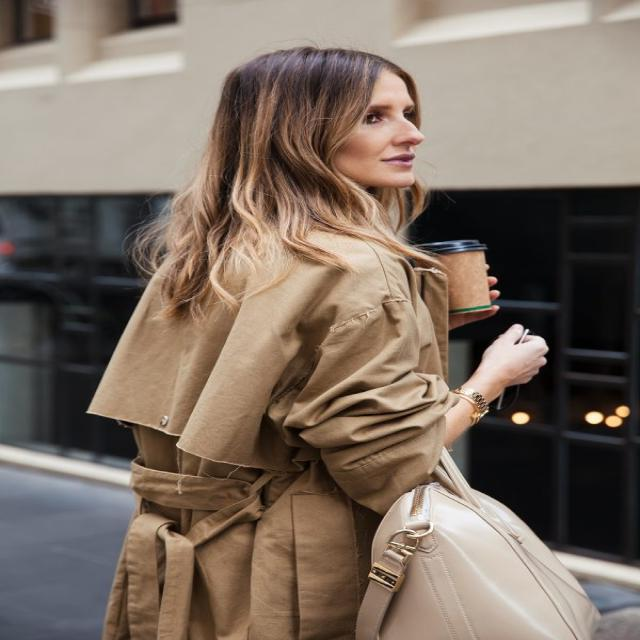coat: (81, 205, 457, 640)
